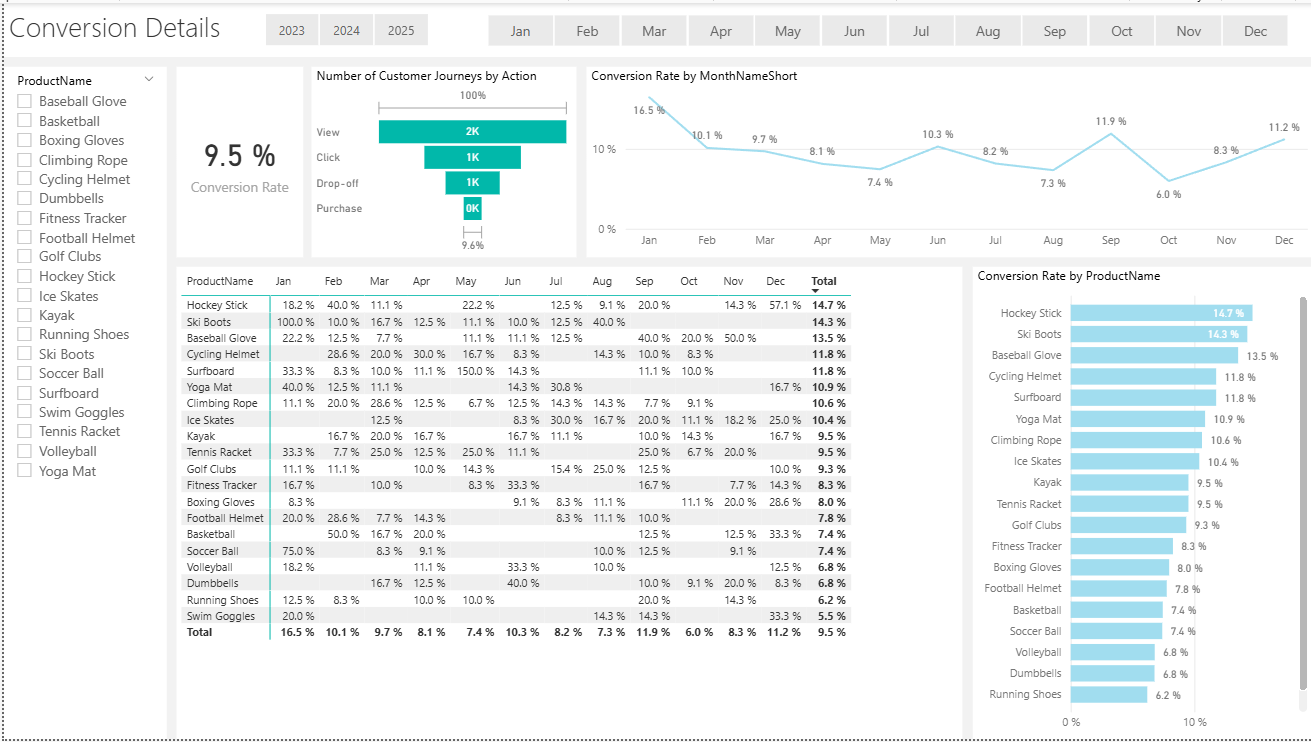

This screenshot's page, from the dashboard's own definition file:
{"tool":"powerbi","page":{"name":"Conversion Details","canvas":[1280,720],"ordinal":1},"visuals":[{"type":"textbox","box":[0,0,1280,52.6],"z":0},{"type":"slicer","fields":{"Values":["dim_products.ProductName"]},"box":[0,61.9,159.4,658.4],"z":1000},{"type":"card","fields":{"Values":["_Calculations.Conversion Rate"]},"box":[168.5,61.9,123.8,186.7],"z":2000},{"type":"lineChart","fields":{"Y":["_Calculations.Conversion Rate"],"Category":["Calendar.MonthNameShort"]},"box":[570.1,61.9,710.3,186.7],"z":3000},{"type":"clusteredBarChart","fields":{"Category":["dim_products.ProductName"],"Y":["_Calculations.Conversion Rate"]},"box":[948,257.7,332.4,462.6],"z":4000},{"type":"slicer","fields":{"Values":["Calendar.Year"]},"box":[230.2,4.1,208.5,44.4],"z":5000},{"type":"slicer","fields":{"Values":["Calendar.MonthNameShort"]},"box":[448,4.6,832.3,43.7],"z":6000},{"type":"pivotTable","fields":{"Rows":["dim_products.ProductName"],"Values":["_Calculations.Conversion Rate"],"Columns":["Calendar.MonthNameShort"]},"box":[168.5,257.7,768.6,462.6],"z":7000},{"type":"funnel","fields":{"Category":["fact_customer_journey.Action"],"Y":["_Calculations.Number of Customer Journeys"]},"box":[301.4,61.9,259.5,186.7],"z":8000}]}

Visuals, with their boxes in screenshot pixels (x1, y1, x2, y2), scaled from the page's 1280x720 canvas onto the 1311x742 screenshot:
textbox: bbox=[0, 0, 1310, 54]
slicer - dim_products.ProductName: bbox=[0, 64, 163, 741]
card - _Calculations.Conversion Rate: bbox=[173, 64, 299, 256]
lineChart - _Calculations.Conversion Rate x Calendar.MonthNameShort: bbox=[584, 64, 1310, 256]
clusteredBarChart - dim_products.ProductName x _Calculations.Conversion Rate: bbox=[971, 266, 1310, 741]
slicer - Calendar.Year: bbox=[236, 4, 449, 50]
slicer - Calendar.MonthNameShort: bbox=[459, 5, 1310, 50]
pivotTable - dim_products.ProductName x _Calculations.Conversion Rate: bbox=[173, 266, 960, 741]
funnel - fact_customer_journey.Action x _Calculations.Number of Customer Journeys: bbox=[309, 64, 574, 256]
